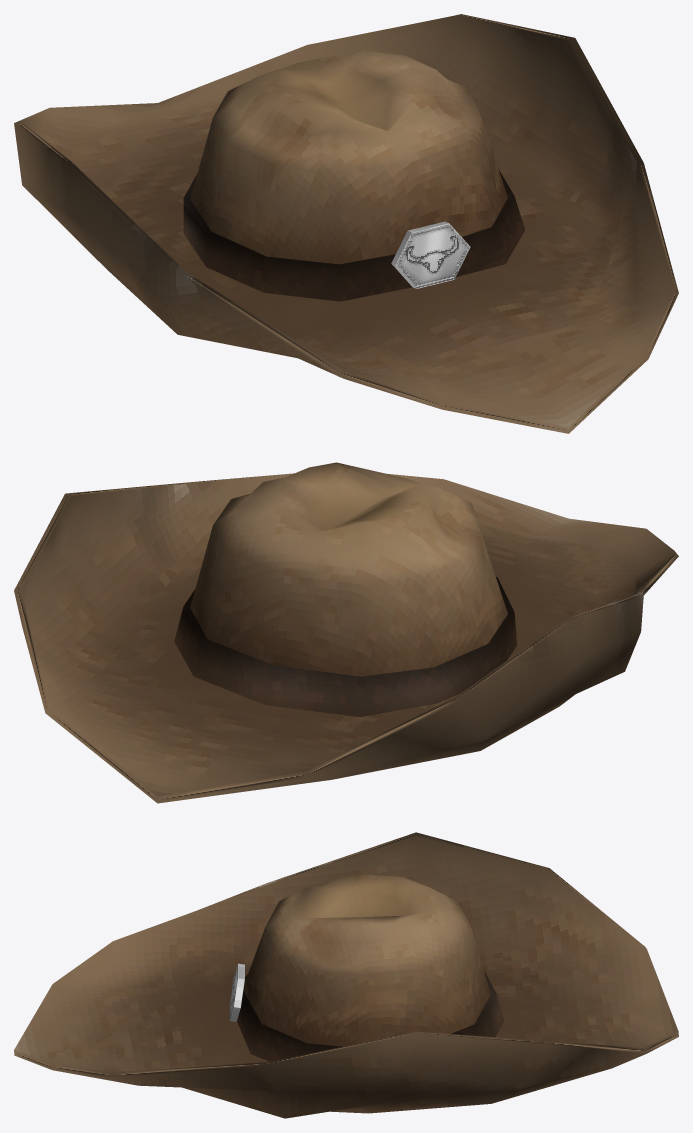
The model's file is cowboy-hat.glb.
3 views of the same model, one above another, from view 1: azimuth 30°, elevation 25°; view 2: azimuth 150°, elevation 25°; view 3: azimuth 270°, elevation 25° (orthographic). The views are drawn at different scales.
Parts seen in each view (by area): view 1: sm_cowboy_hat1; view 2: sm_cowboy_hat1; view 3: sm_cowboy_hat1.
Part boxes in pixels (x1=…): sm_cowboy_hat1: x1=14, y1=14, x2=678, y2=433; sm_cowboy_hat1: x1=14, y1=462, x2=678, y2=803; sm_cowboy_hat1: x1=14, y1=832, x2=678, y2=1118.
Size of the model in its own units: 0.2333 by 0.0816 by 0.3163.
1 material, 1 textured.
